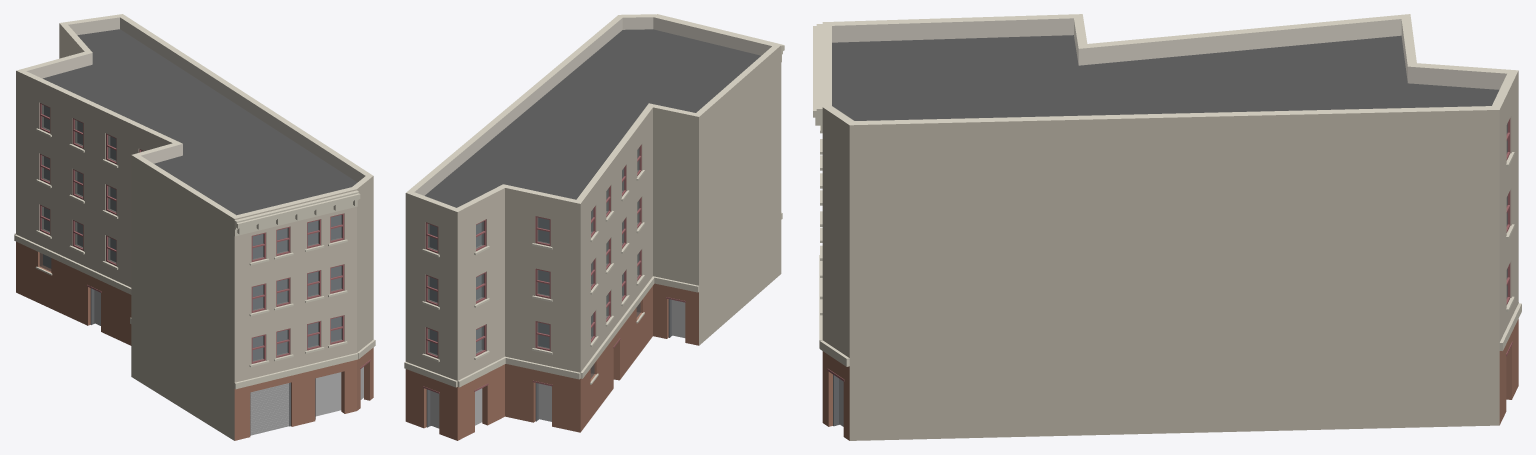
File: exterior.glb
3 renders of one model, left to right at view 1: azimuth 30°, elevation 25°; view 2: azimuth 150°, elevation 25°; view 3: azimuth 270°, elevation 25°, orthographic. The views are drawn at different scales.
Parts seen in each view (by area): view 1: shell, roof, trim, glazing, shadow-proxy, frames, storefront; view 2: shell, roof, trim, shadow-proxy, glazing, frames, storefront; view 3: shell, roof, trim.
Part boxes in pixels (left/top/right/bottom): shell: left=16, top=14, right=373, bottom=440; roof: left=43, top=29, right=357, bottom=215; trim: left=14, top=128, right=375, bottom=389; glazing: left=40, top=105, right=342, bottom=361; shadow-proxy: left=43, top=105, right=363, bottom=416; frames: left=39, top=103, right=344, bottom=363; storefront: left=87, top=285, right=370, bottom=435; shell: left=405, top=14, right=781, bottom=440; roof: left=425, top=29, right=760, bottom=207; trim: left=404, top=14, right=784, bottom=387; shadow-proxy: left=430, top=218, right=685, bottom=428; glazing: left=428, top=147, right=640, bottom=378; frames: left=425, top=144, right=641, bottom=358; storefront: left=423, top=297, right=685, bottom=427; shell: left=822, top=14, right=1518, bottom=440; roof: left=832, top=35, right=1499, bottom=120; trim: left=813, top=24, right=1521, bottom=366.
Size of the model in its own units: 9.58 by 12.43 by 25.29.
